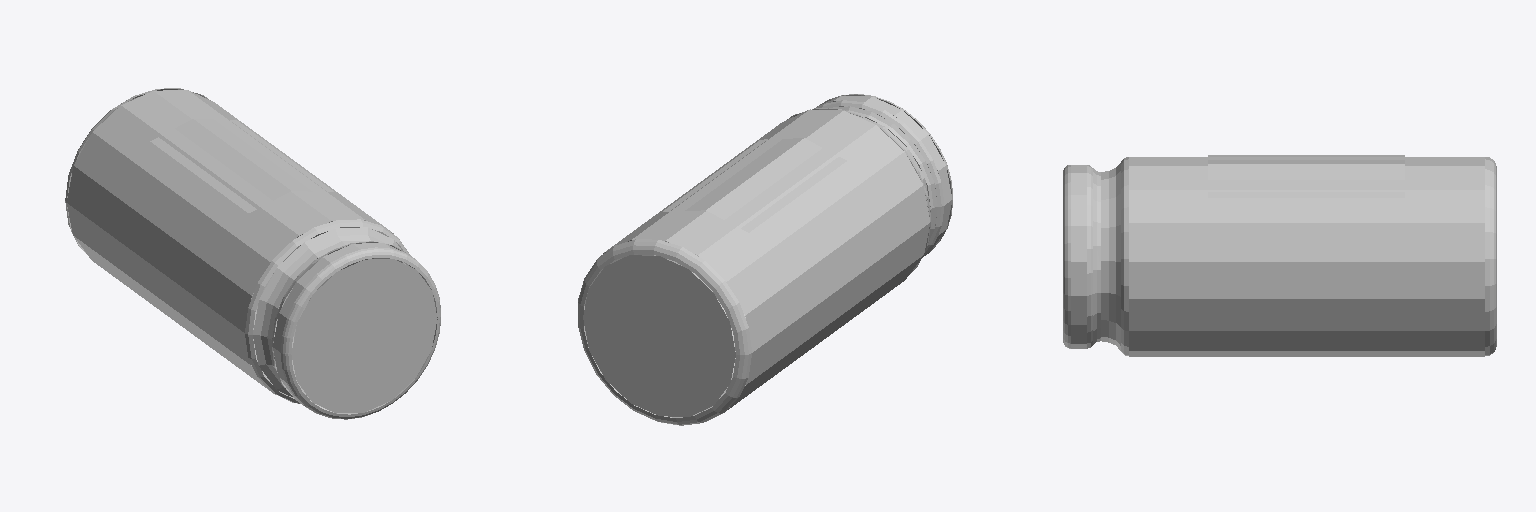
3 renders of one model, left to right at view 1: azimuth 30°, elevation 25°; view 2: azimuth 150°, elevation 25°; view 3: azimuth 270°, elevation 25°, orthographic.
Visible parts, largest first — view 1: ShapeIndexedFaceSet_ShapeIndexedFaceSet.001, ShapeIndexedFaceSet.004_ShapeIndexedFaceSet.005, ShapeIndexedFaceSet.003_ShapeIndexedFaceSet.004, ShapeIndexedFaceSet.005_ShapeIndexedFaceSet, ShapeIndexedFaceSet.001_ShapeIndexedFaceSet.002; view 2: ShapeIndexedFaceSet_ShapeIndexedFaceSet.001, ShapeIndexedFaceSet.002_ShapeIndexedFaceSet.003, ShapeIndexedFaceSet.001_ShapeIndexedFaceSet.002, ShapeIndexedFaceSet.003_ShapeIndexedFaceSet.004, ShapeIndexedFaceSet.005_ShapeIndexedFaceSet; view 3: ShapeIndexedFaceSet_ShapeIndexedFaceSet.001, ShapeIndexedFaceSet.003_ShapeIndexedFaceSet.004, ShapeIndexedFaceSet.005_ShapeIndexedFaceSet, ShapeIndexedFaceSet.001_ShapeIndexedFaceSet.002.
Boxes of the visible parts, x1=… form: ShapeIndexedFaceSet_ShapeIndexedFaceSet.001: x1=67, y1=90, x2=402, y2=403; ShapeIndexedFaceSet.004_ShapeIndexedFaceSet.005: x1=291, y1=259, x2=437, y2=413; ShapeIndexedFaceSet.003_ShapeIndexedFaceSet.004: x1=245, y1=219, x2=440, y2=419; ShapeIndexedFaceSet.005_ShapeIndexedFaceSet: x1=150, y1=119, x2=333, y2=212; ShapeIndexedFaceSet.001_ShapeIndexedFaceSet.002: x1=65, y1=88, x2=210, y2=252; ShapeIndexedFaceSet_ShapeIndexedFaceSet.001: x1=584, y1=109, x2=929, y2=417; ShapeIndexedFaceSet.002_ShapeIndexedFaceSet.003: x1=583, y1=255, x2=735, y2=416; ShapeIndexedFaceSet.001_ShapeIndexedFaceSet.002: x1=578, y1=239, x2=751, y2=425; ShapeIndexedFaceSet.003_ShapeIndexedFaceSet.004: x1=787, y1=94, x2=952, y2=273; ShapeIndexedFaceSet.005_ShapeIndexedFaceSet: x1=663, y1=138, x2=846, y2=232; ShapeIndexedFaceSet_ShapeIndexedFaceSet.001: x1=1129, y1=157, x2=1484, y2=356; ShapeIndexedFaceSet.003_ShapeIndexedFaceSet.004: x1=1063, y1=157, x2=1128, y2=355; ShapeIndexedFaceSet.005_ShapeIndexedFaceSet: x1=1208, y1=155, x2=1404, y2=197; ShapeIndexedFaceSet.001_ShapeIndexedFaceSet.002: x1=1485, y1=157, x2=1496, y2=355.
Size of the model in its own units: 5.08 by 5.12 by 11.